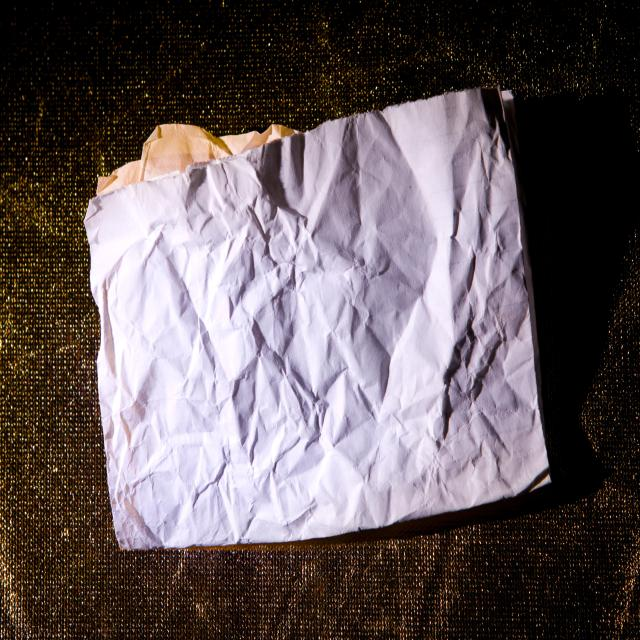paper: (89, 126, 568, 526)
